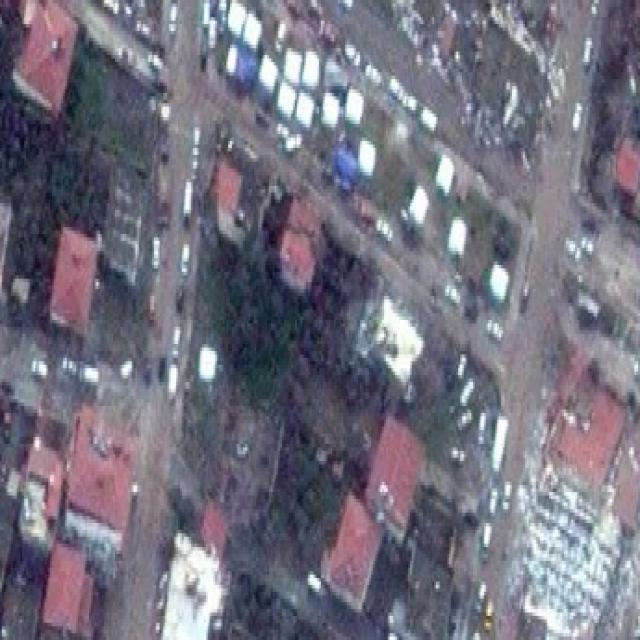Rubble: (524, 502, 612, 632), (498, 8, 568, 98), (402, 8, 474, 86), (458, 92, 533, 157), (614, 536, 639, 630), (88, 524, 122, 585)
